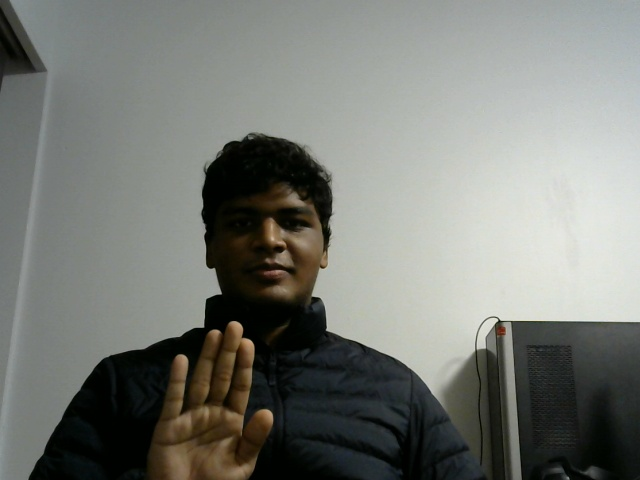Hi: (140, 319, 280, 480)
